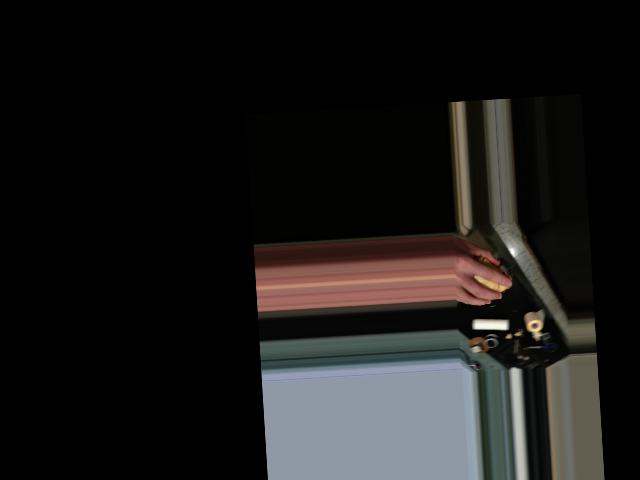onion: (464, 253, 511, 297)
